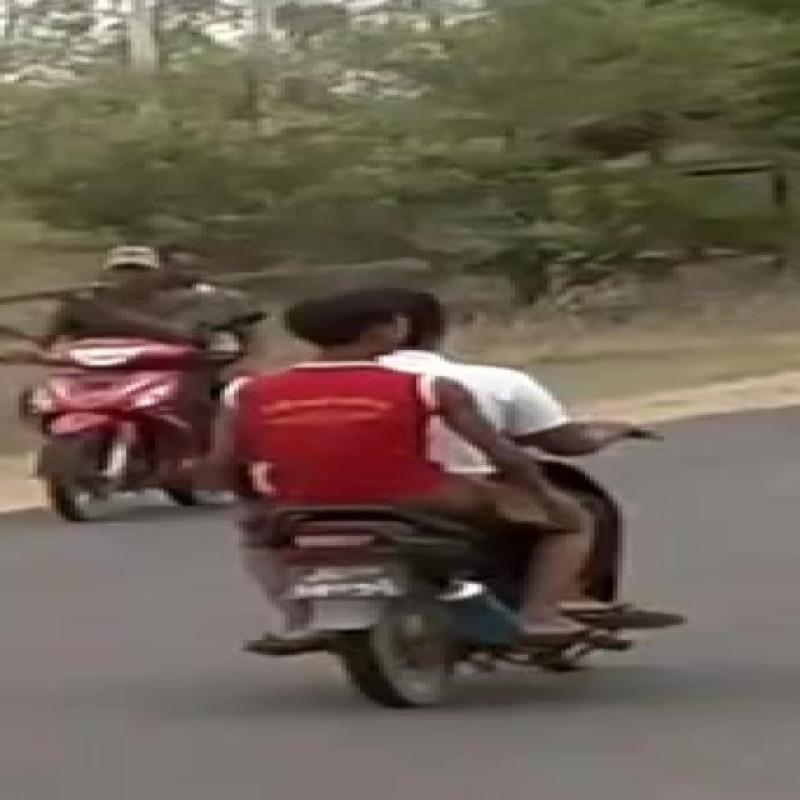nohelmet: (282, 288, 439, 351)
